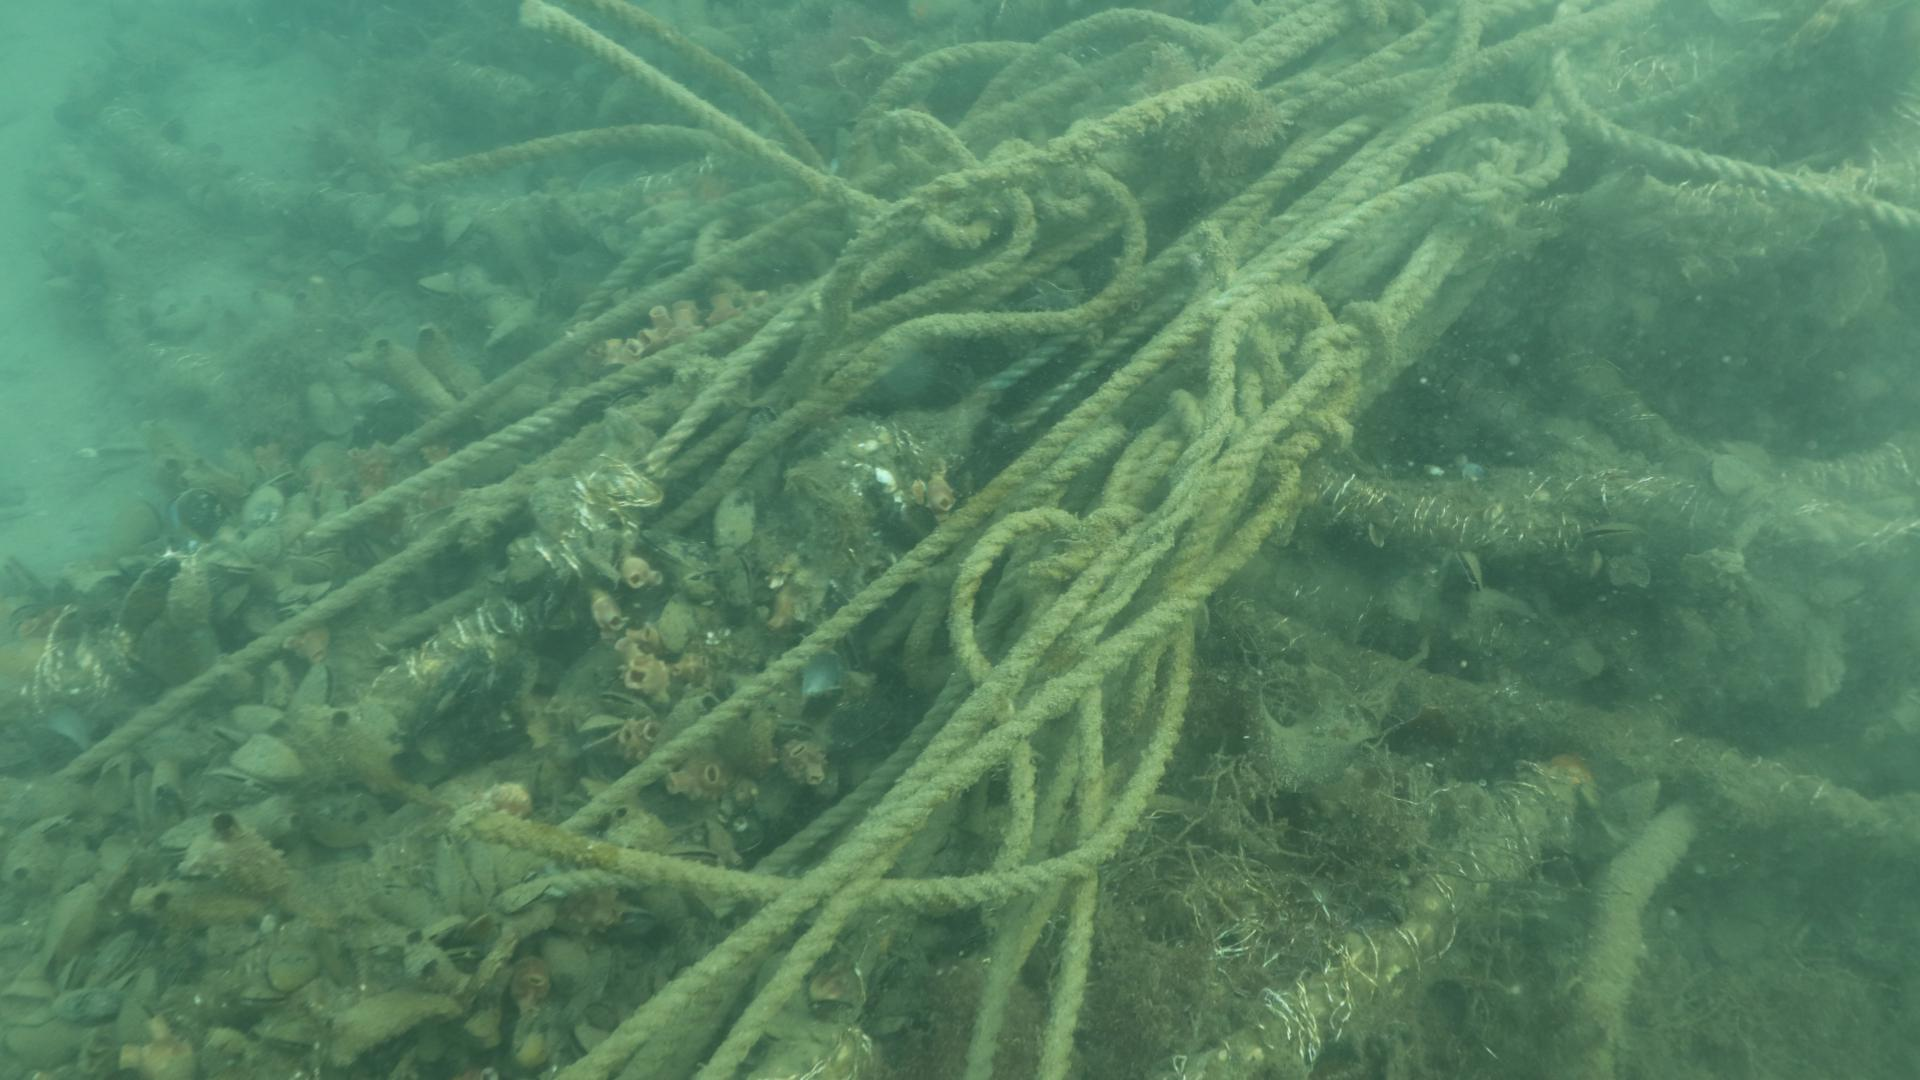bundle of ropes: (49, 0, 1920, 1080)
